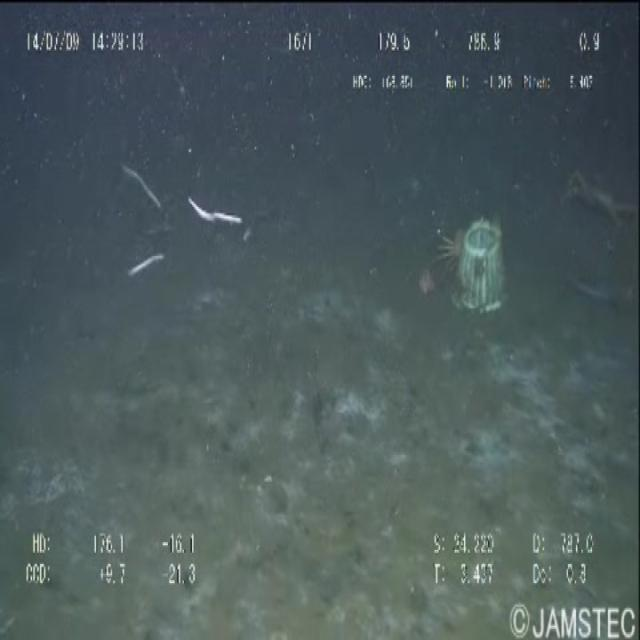Cutlery: (449, 219, 509, 332)
